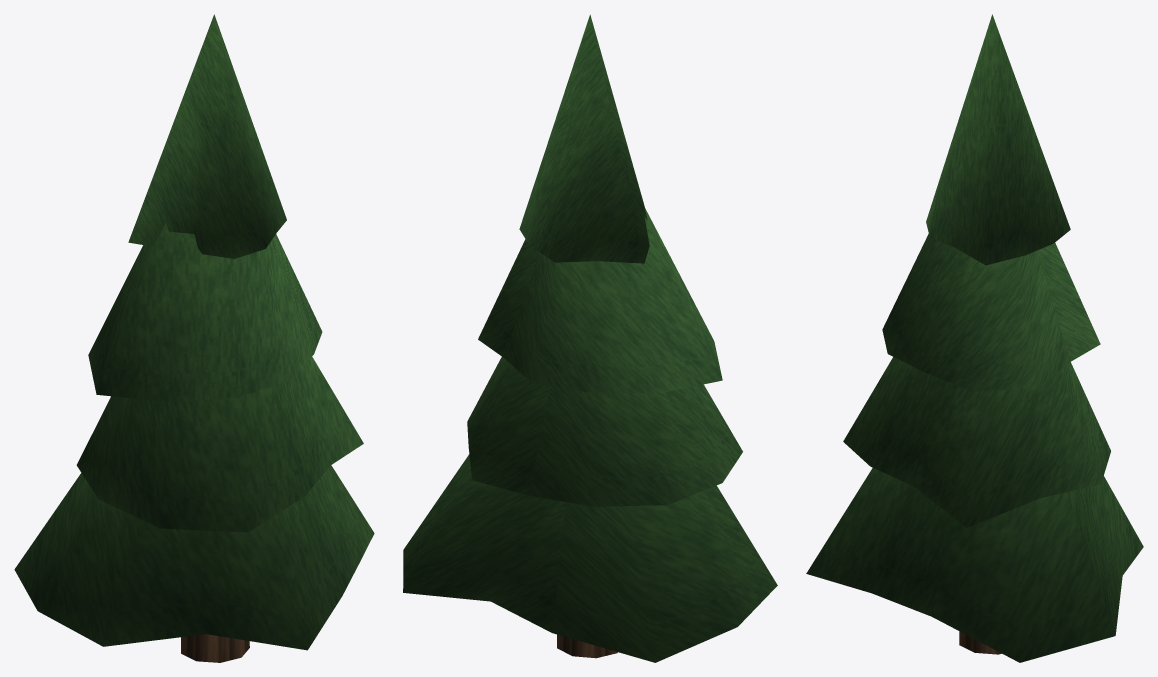
File: pine_a.glb
The picture shows the model from 3 angles, left to right: view 1: azimuth 30°, elevation 25°; view 2: azimuth 150°, elevation 25°; view 3: azimuth 270°, elevation 25°; orthographic projection.
Parts seen in each view (by area): view 1: pine_a; view 2: pine_a; view 3: pine_a.
Part boxes in pixels (box(x1,y1,x2,y2)): pine_a: box(14, 14, 374, 662); pine_a: box(403, 14, 777, 662); pine_a: box(806, 14, 1143, 662).
Size of the model in its own units: 4.26 by 7.66 by 3.74.
Materials: 2 (2 with a texture image).
